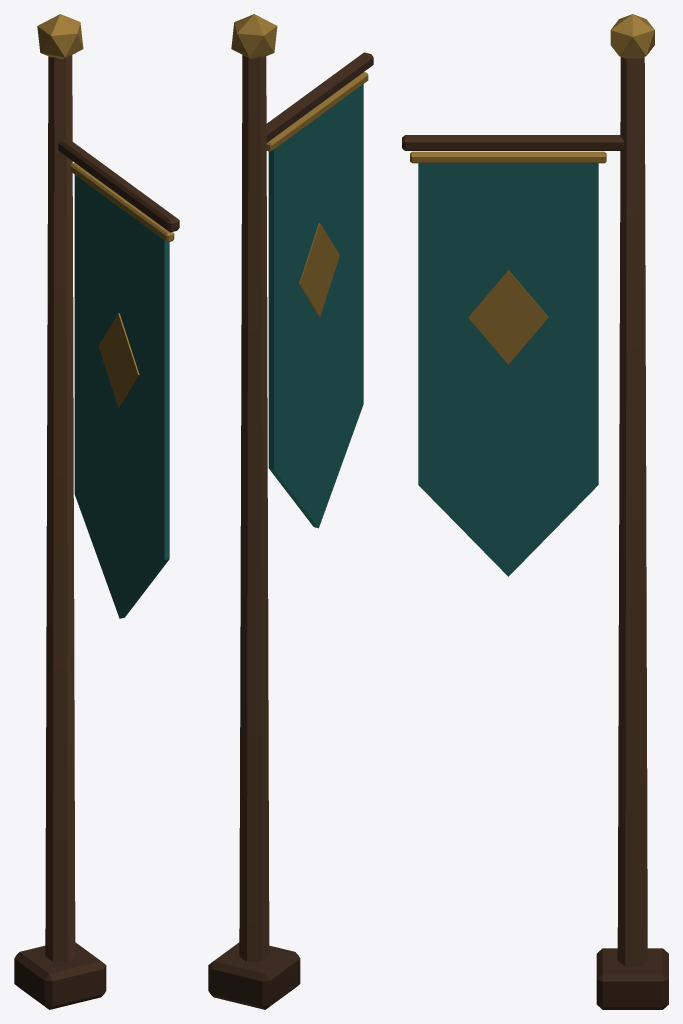
File: piece_bannerpole.glb
3 views of the same model, side by side, from view 1: azimuth 30°, elevation 25°; view 2: azimuth 150°, elevation 25°; view 3: azimuth 270°, elevation 25° (orthographic).
Parts seen in each view (by area): view 1: Base; view 2: Base; view 3: Base.
Part boxes in pixels (x1,y1,x2,y2): Base: (14,14,179,1009); Base: (208,14,373,1009); Base: (402,14,668,1009).
Bounding box in the file's own units: 0.36 × 5.41 × 1.33.
